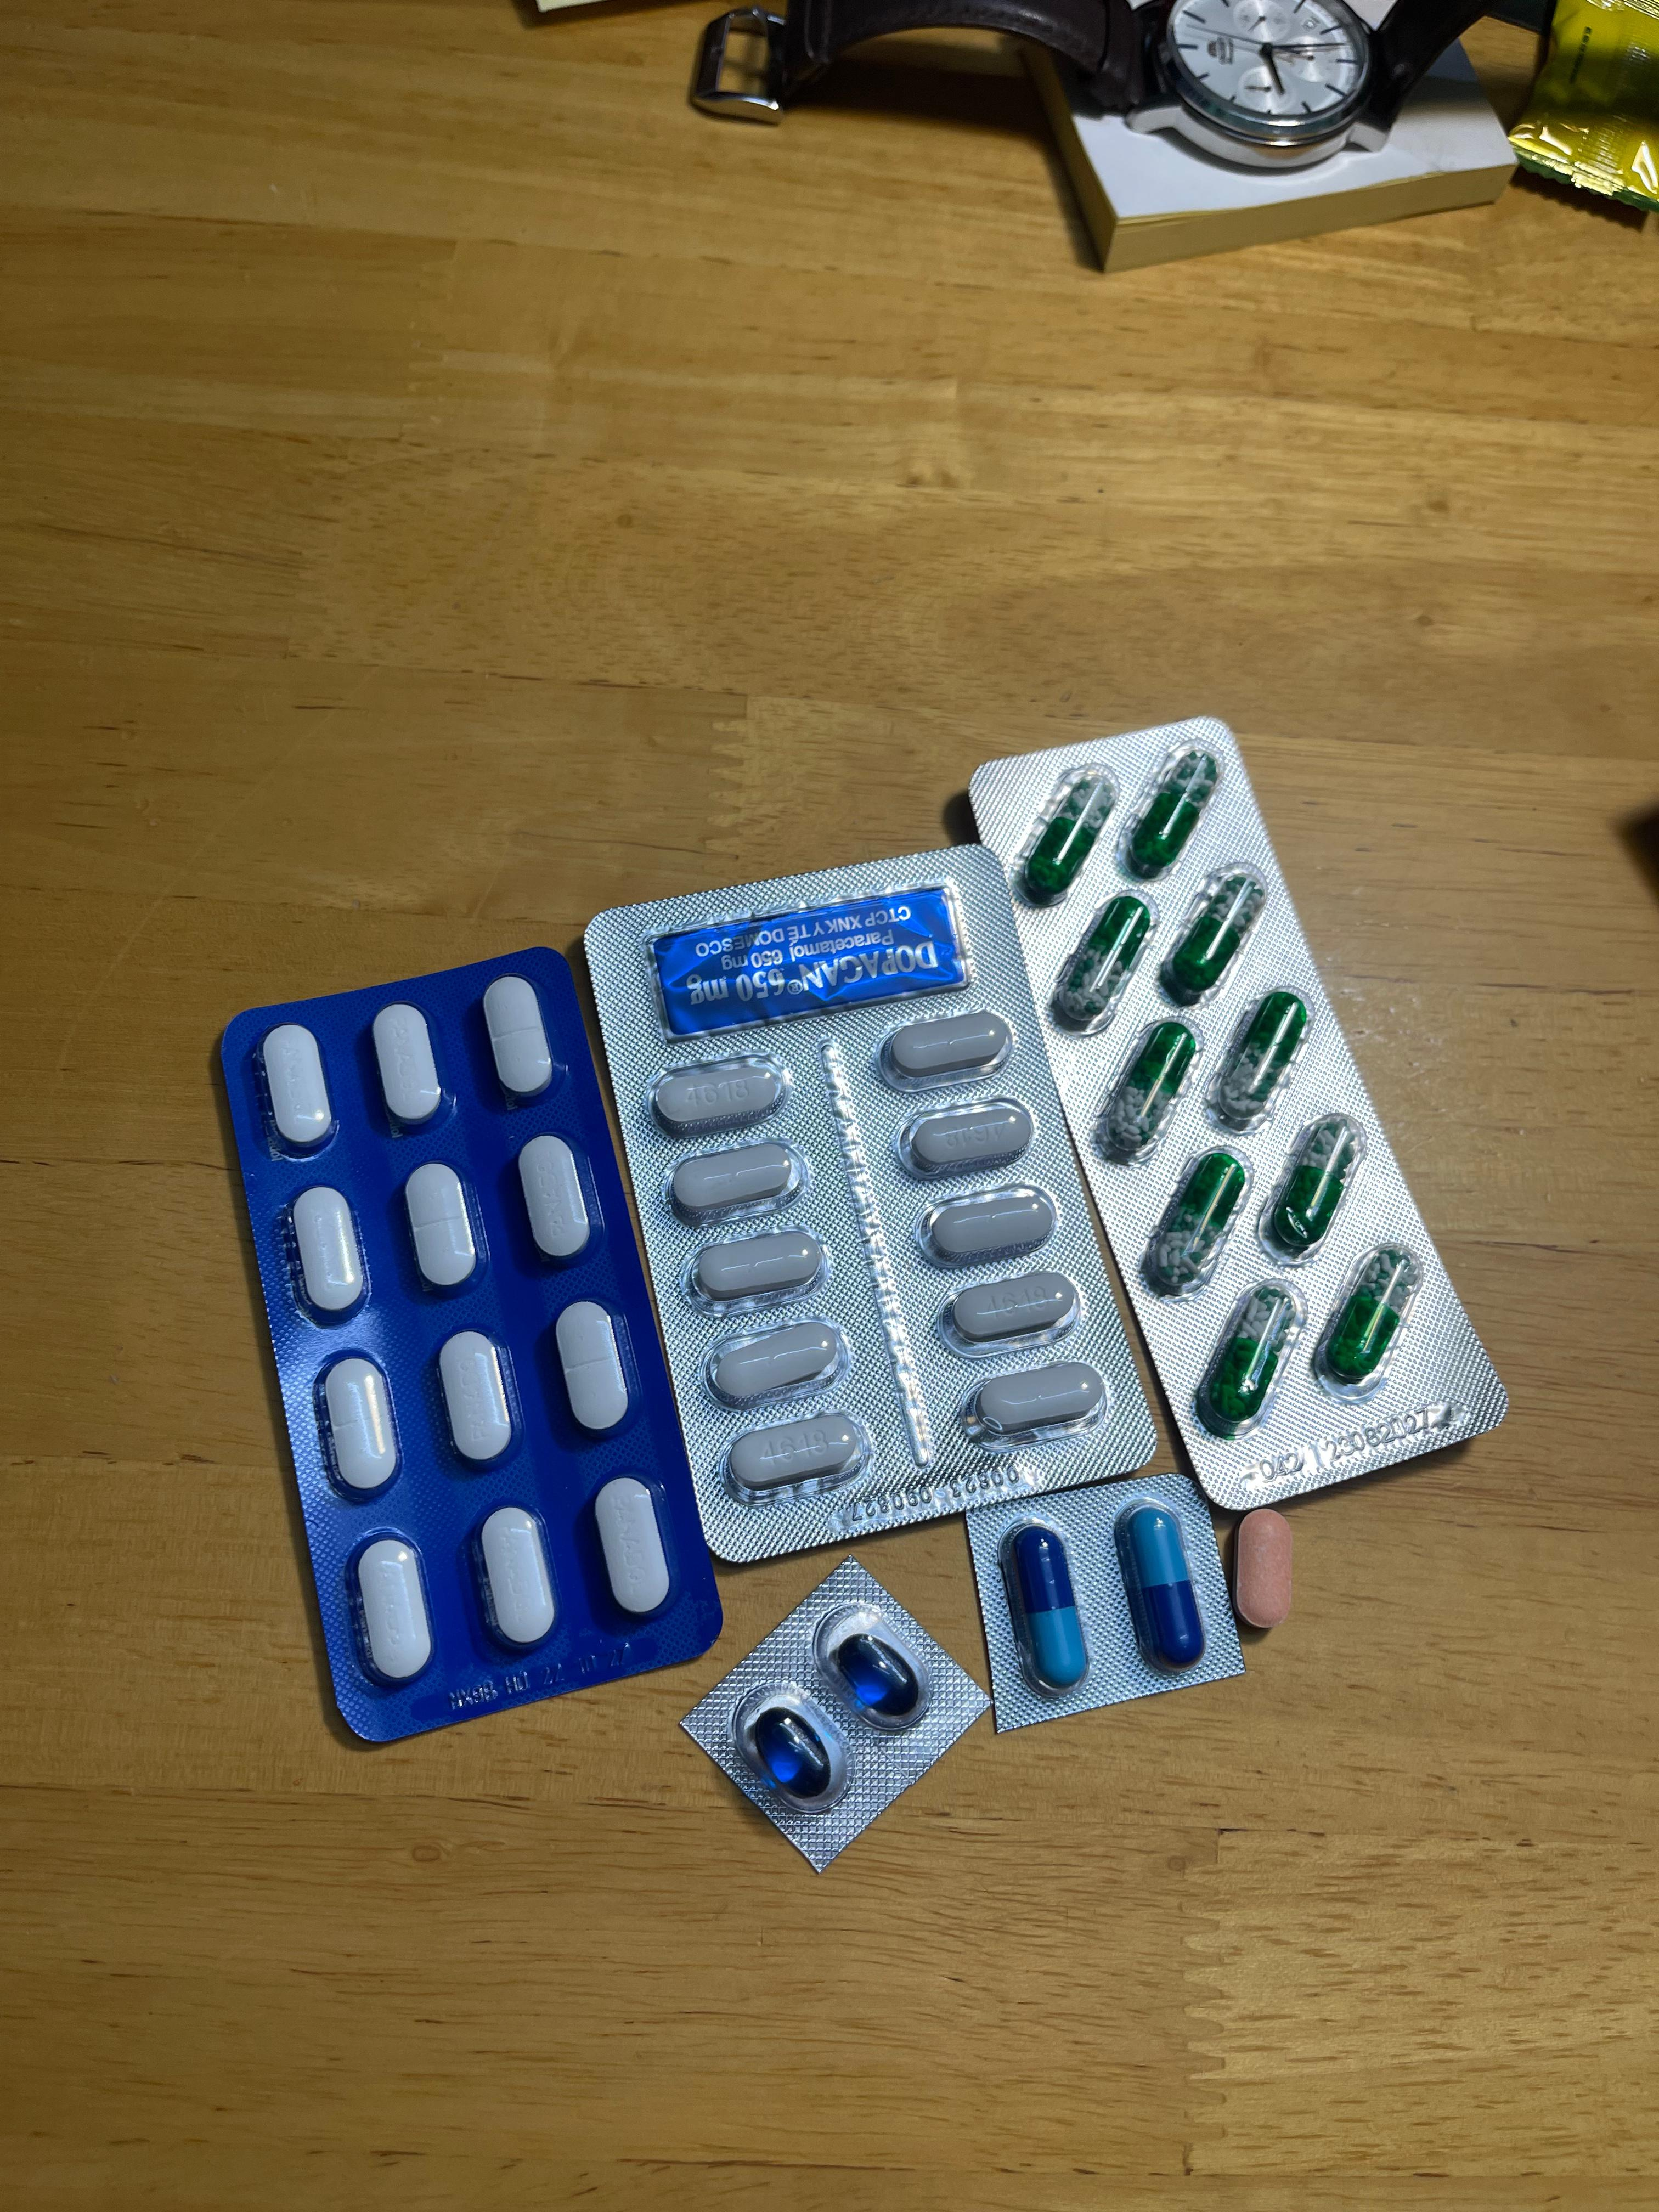Lincomyxin_500mg: (837, 1633, 918, 1716), (755, 1711, 832, 1797)
Loratadine_10mg: (1233, 1507, 1292, 1629)
Paracetamol_350mg: (473, 1506, 560, 1650), (352, 1538, 433, 1685), (317, 1354, 400, 1496), (594, 1479, 670, 1616), (439, 1332, 515, 1465), (554, 1300, 629, 1432), (292, 1186, 368, 1318), (518, 1135, 592, 1259), (261, 1023, 334, 1146), (406, 1163, 477, 1287), (372, 1002, 443, 1122), (483, 974, 554, 1094)
Paracetamol_500mg: (961, 1361, 1104, 1454), (709, 1313, 844, 1406), (724, 1411, 862, 1495), (919, 1184, 1057, 1267), (651, 1053, 788, 1136), (879, 1007, 1015, 1090), (668, 1142, 803, 1226), (897, 1097, 1033, 1178), (691, 1228, 821, 1308), (950, 1271, 1080, 1347)
Paracetamol_650mg: (1197, 1280, 1305, 1439), (1317, 1245, 1426, 1393), (1144, 1147, 1251, 1294), (1263, 1114, 1370, 1260), (1212, 991, 1313, 1130), (1159, 872, 1263, 1005), (1096, 1015, 1196, 1153), (1017, 764, 1118, 899), (1123, 746, 1221, 882), (1053, 893, 1152, 1025)
pill: (1114, 1503, 1200, 1677), (1011, 1520, 1088, 1685)
